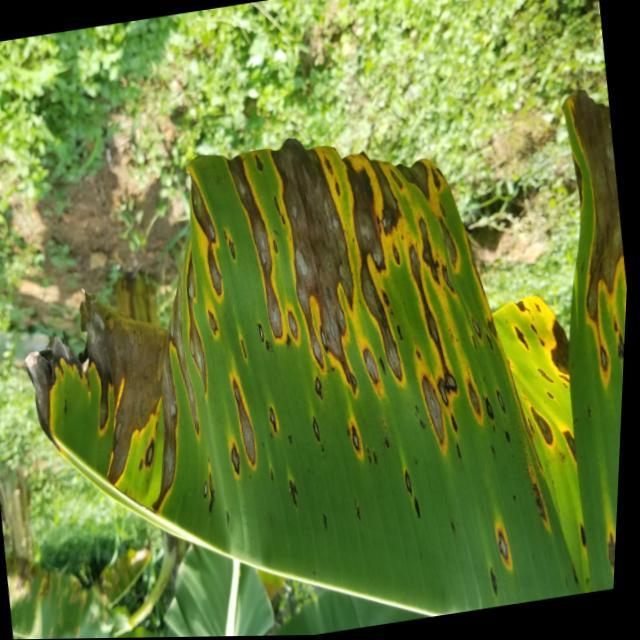Early_rust: (25, 96, 640, 599)
